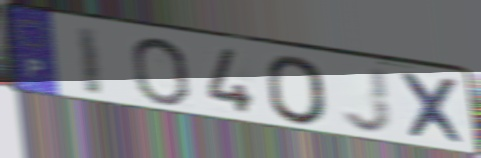4: (204, 47, 258, 117)
I: (73, 24, 106, 99)
J: (339, 65, 395, 136)
O: (263, 54, 332, 128), (128, 36, 193, 108)
X: (395, 69, 473, 150)
